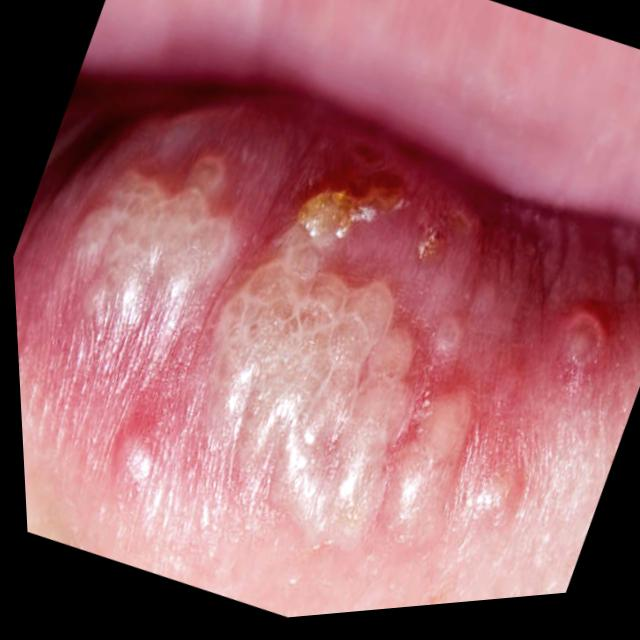ulcer: (212, 236, 412, 533), (415, 397, 464, 469)
